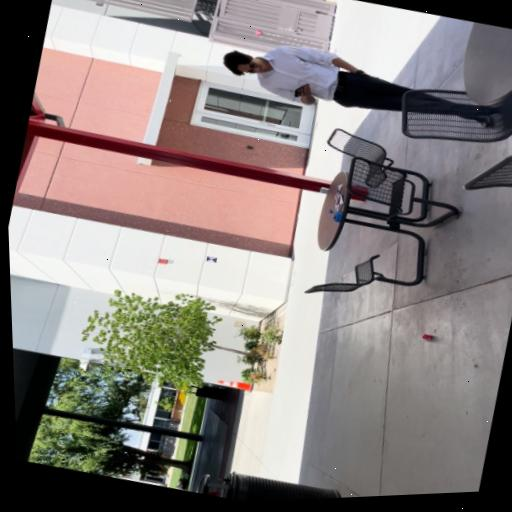target2: (206, 255, 218, 264)
